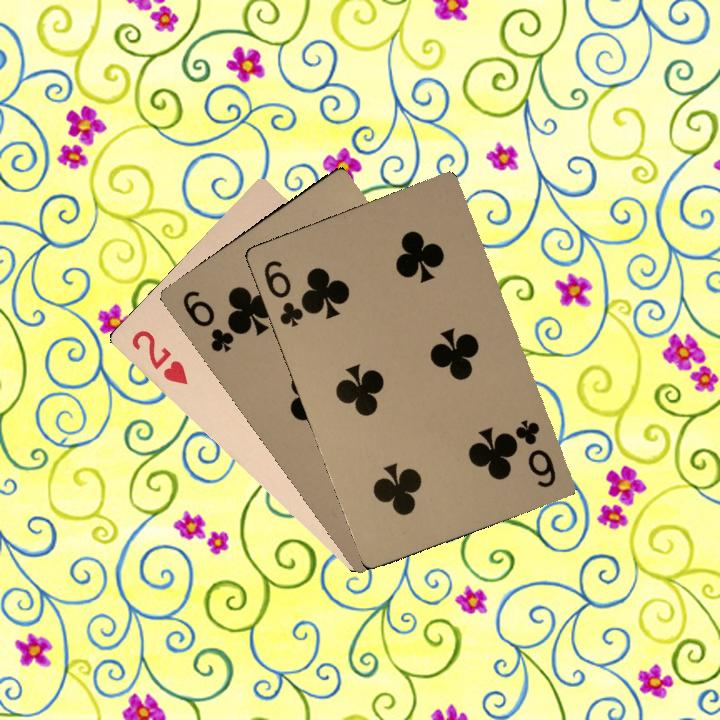2h: (127, 325, 192, 388)
6c: (178, 286, 237, 355), (259, 256, 313, 329), (511, 415, 559, 491)
